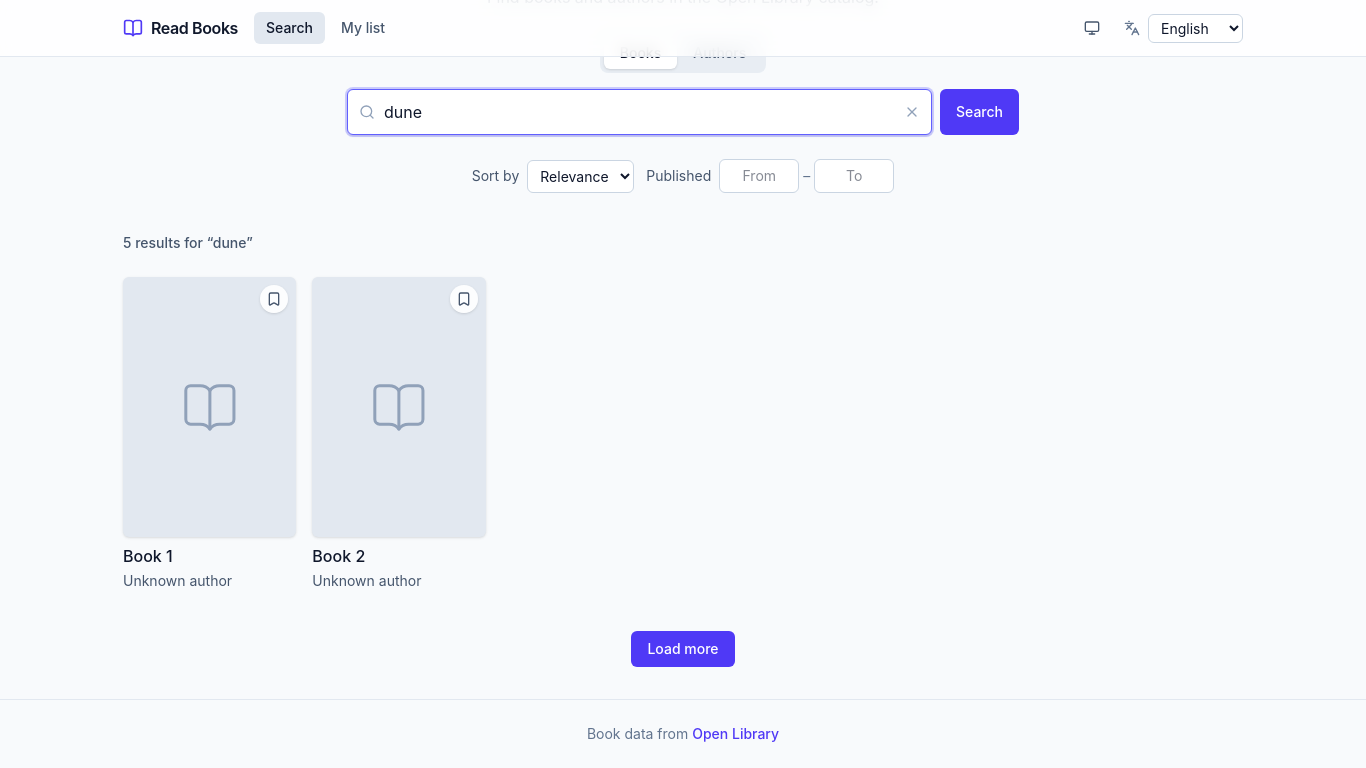
Scenario: SearchPage › loads more pages until the end
(page scrolled)
Step 1. Click the button "Load more" → (683, 649), box left=631, top=631, right=734, bottom=667
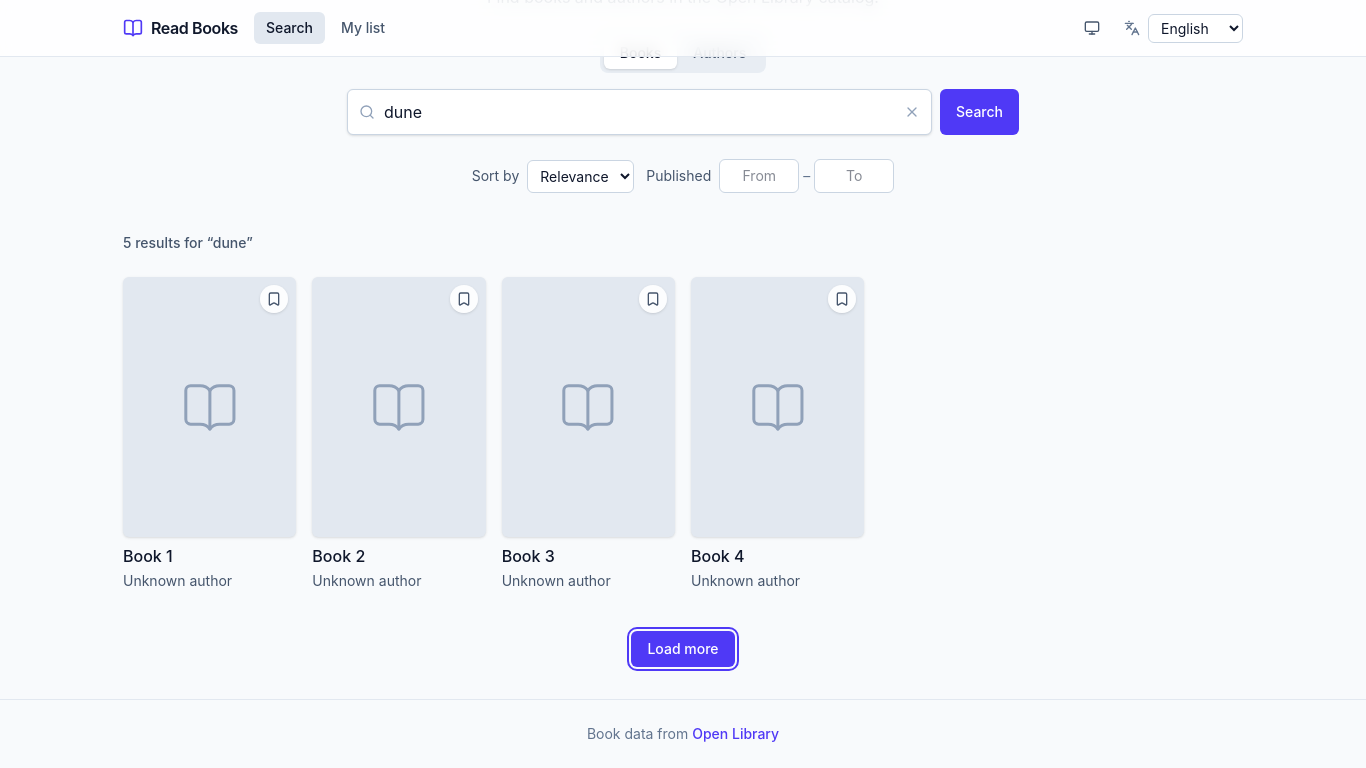
Step 2. Click the button "Load more" → (683, 649), box left=631, top=631, right=734, bottom=667
(page scrolled)
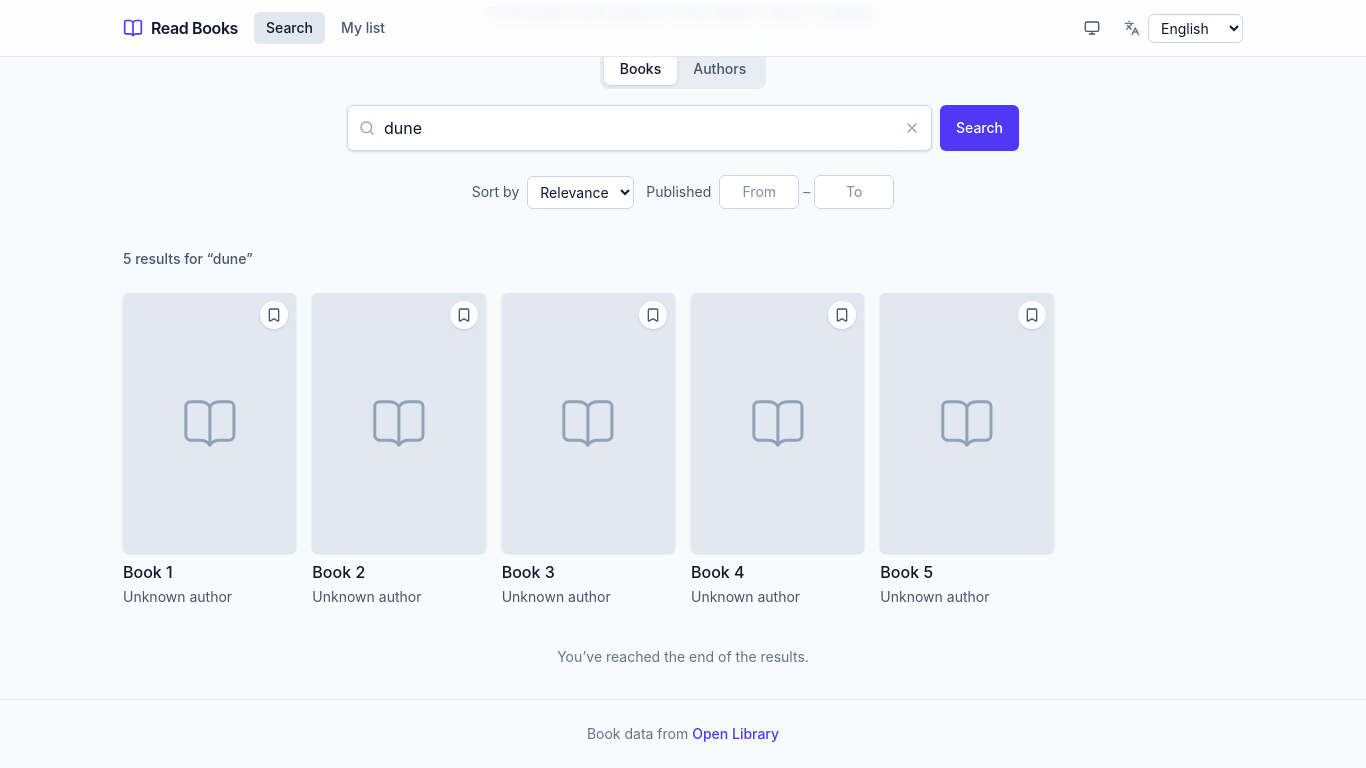
Expected: the text "You’ve reached the end of the results." is shown, left=557, top=647, right=809, bottom=667
